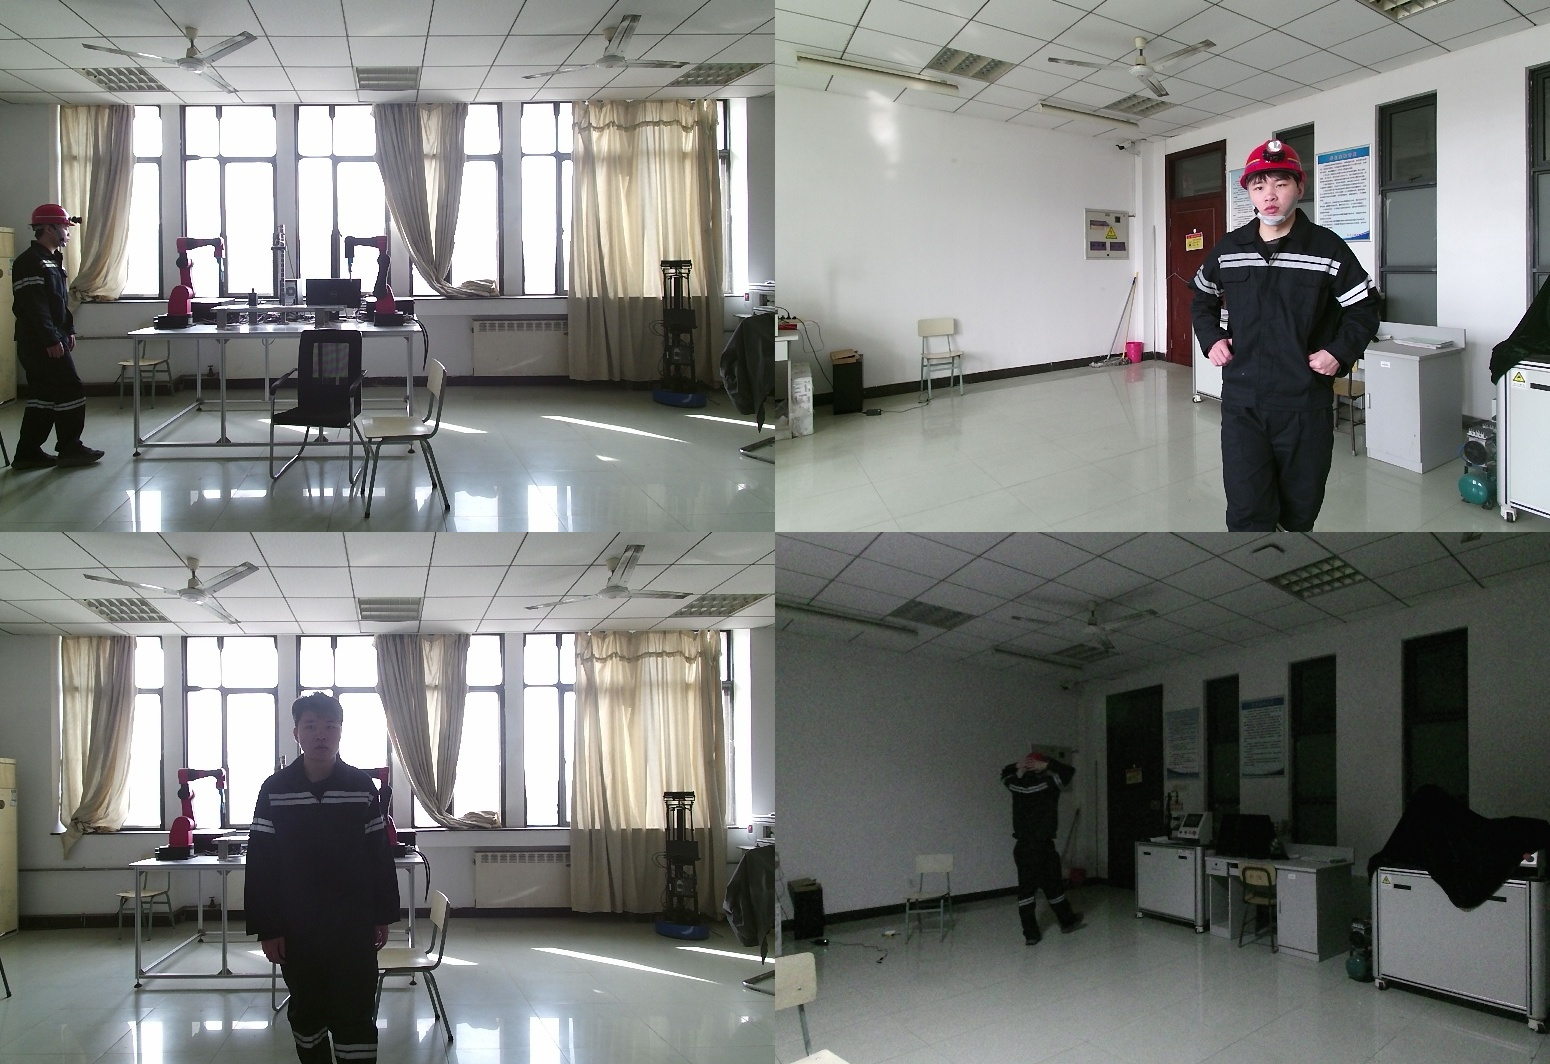person: (1191, 132, 1406, 532), (251, 697, 404, 1064), (7, 204, 114, 468), (994, 751, 1078, 956)
